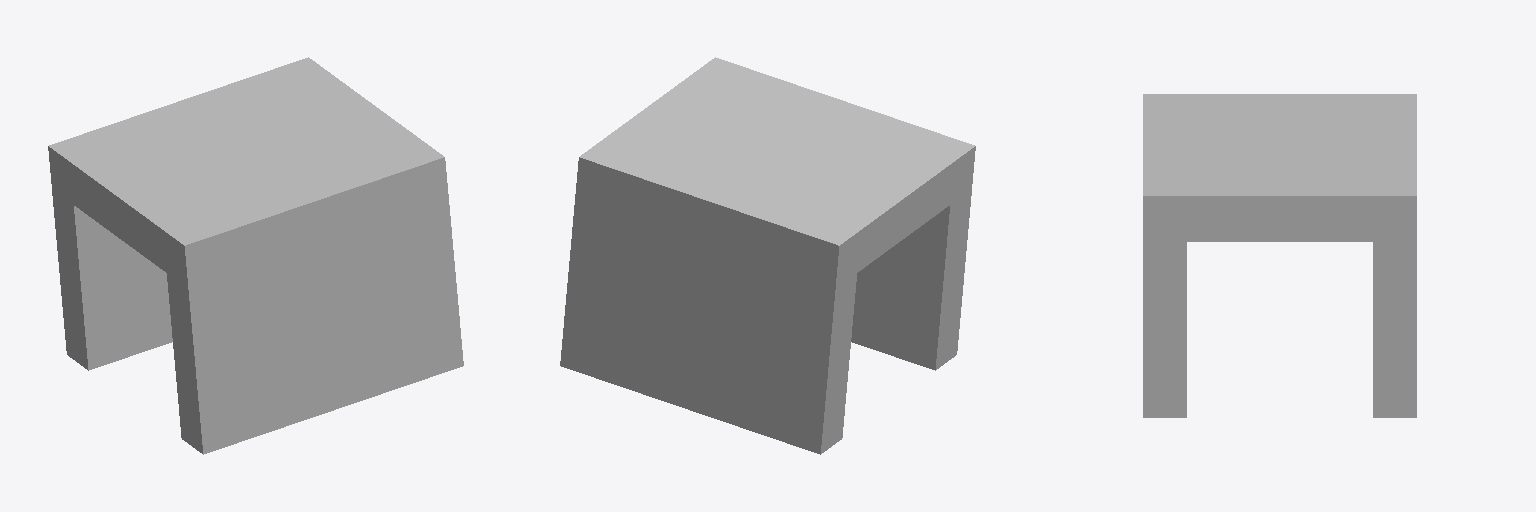
File: underflower2.obj
The picture shows the model from 3 angles: view 1: azimuth 30°, elevation 25°; view 2: azimuth 150°, elevation 25°; view 3: azimuth 270°, elevation 25°; orthographic projection.
Parts seen in each view (by area): view 1: C_Ext001; view 2: C_Ext001; view 3: C_Ext001.
Part boxes in pixels (left/top/right/bottom): C_Ext001: left=48, top=57, right=463, bottom=454; C_Ext001: left=560, top=57, right=975, bottom=454; C_Ext001: left=1143, top=94, right=1416, bottom=417.
Size of the model in its own units: 10.34 by 8.44 by 8.76.